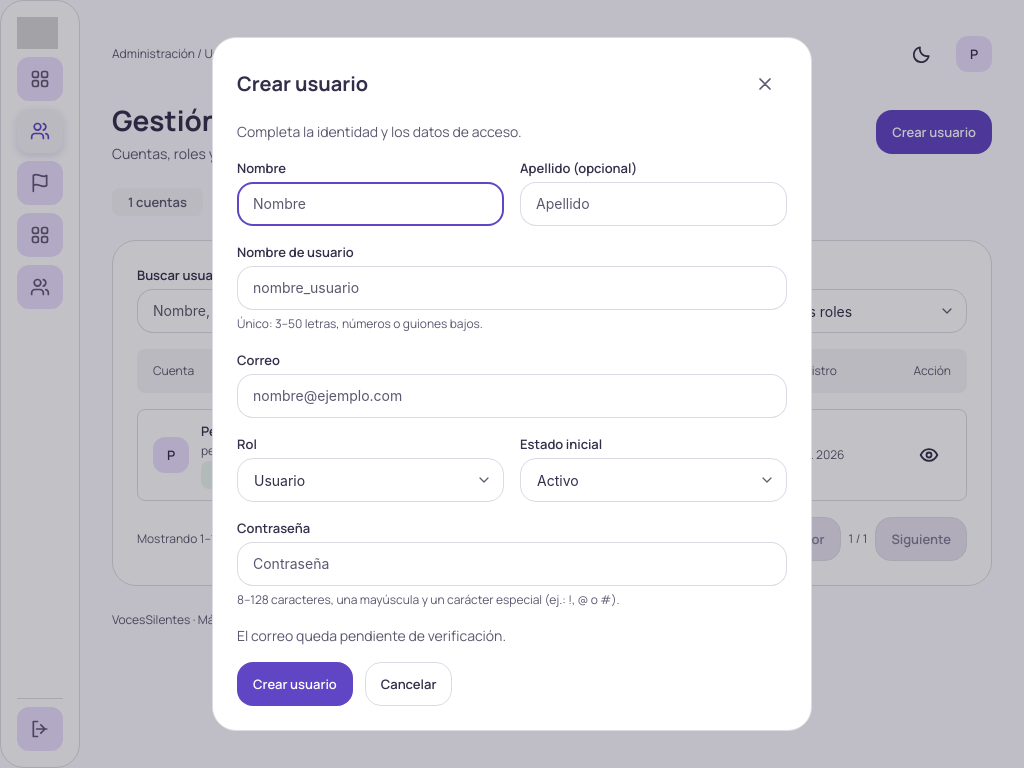
Test case: crear: rechaza abcd123! antes de enviar y explica el requisito
Expected: the heading "Crear usuario" is shown, top-left (237, 70), bottom-right (368, 97)
Expected: the text "8–128 caracteres, una mayúscula y un carácter especial" is shown, top-left (237, 591), bottom-right (620, 608)
In the field labelled "Nombre": (370, 204) top-left (253, 194), bottom-right (488, 214), type "Persona"
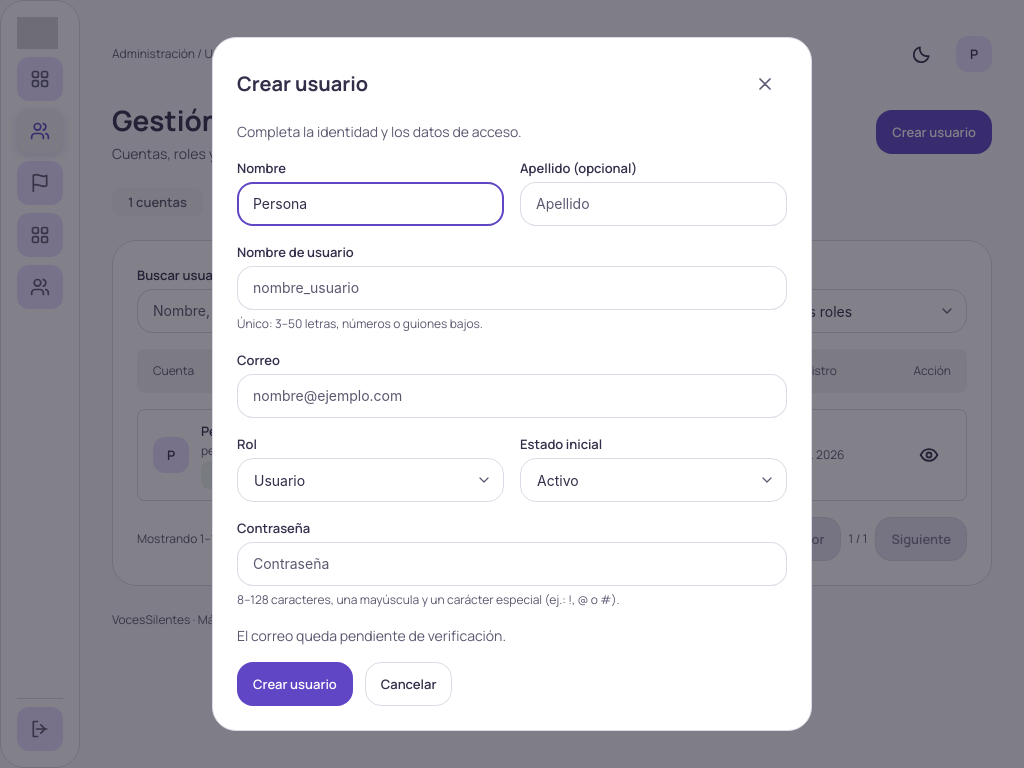
In the field labelled "Nombre de usuario": (512, 288) top-left (253, 278), bottom-right (771, 298), type "persona_admin"
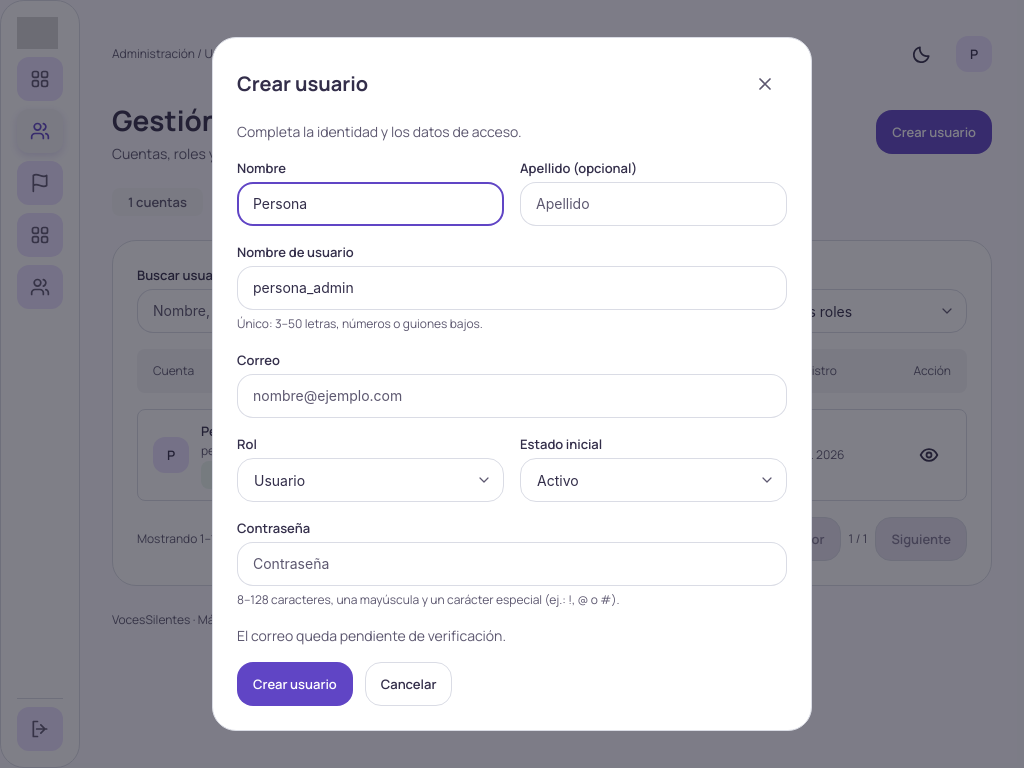
In the field labelled "Correo": (512, 396) top-left (253, 386), bottom-right (771, 406), type "person@example.invalid"
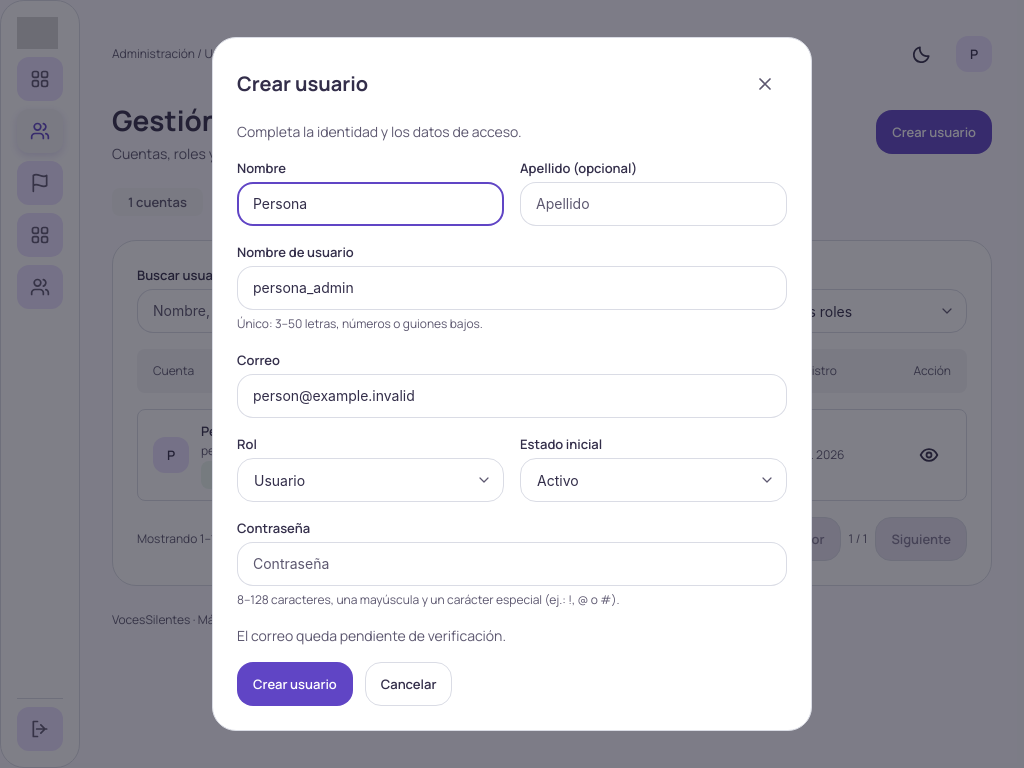
In the password field labelled "Contraseña": (512, 564) top-left (253, 554), bottom-right (771, 574), type "Una frase de prueba 123!"
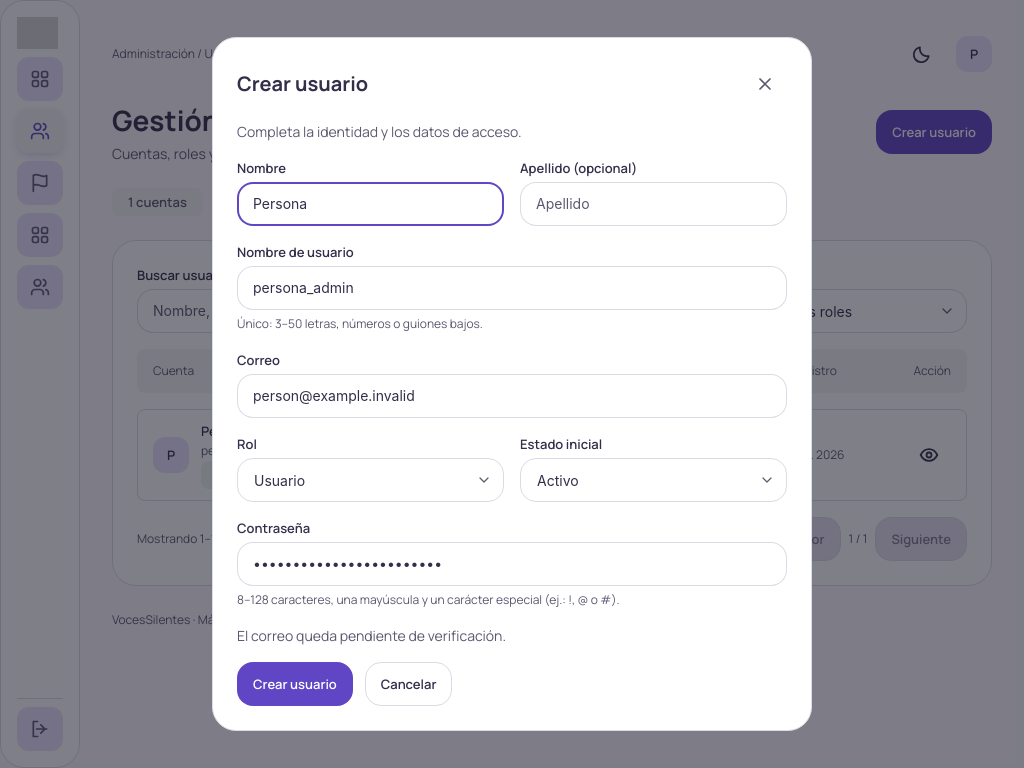
In the password field labelled "Contraseña": (512, 564) top-left (253, 554), bottom-right (771, 574), type "abcd123!"
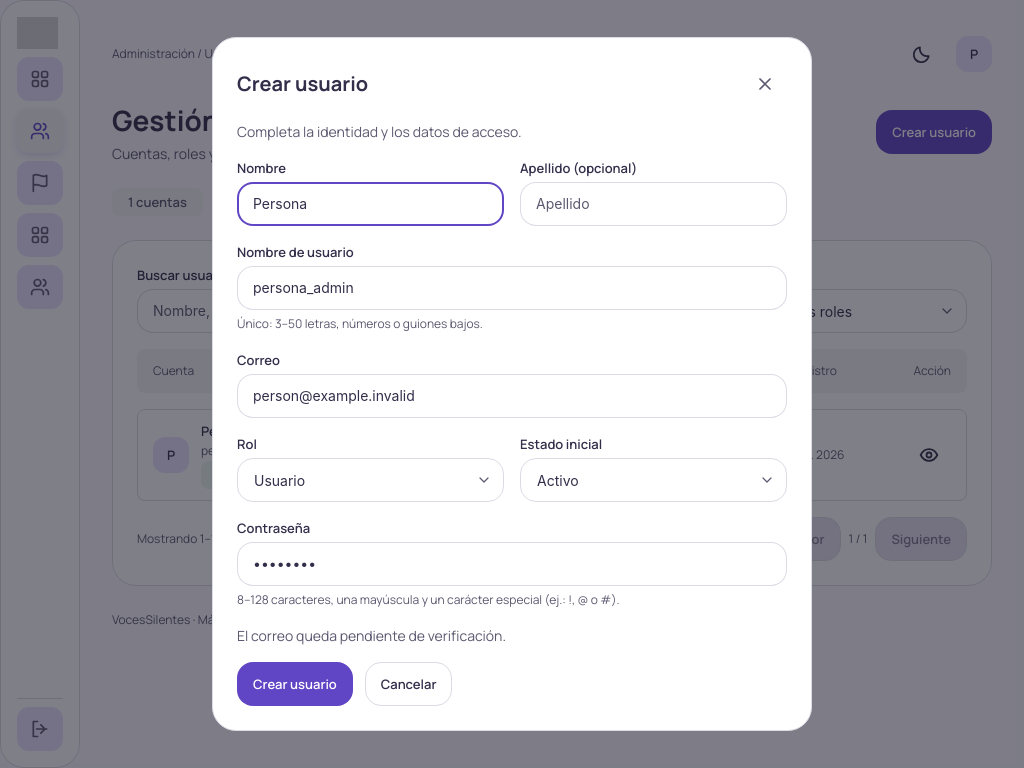
Click the button "Crear usuario": (295, 684) top-left (237, 662), bottom-right (353, 706)
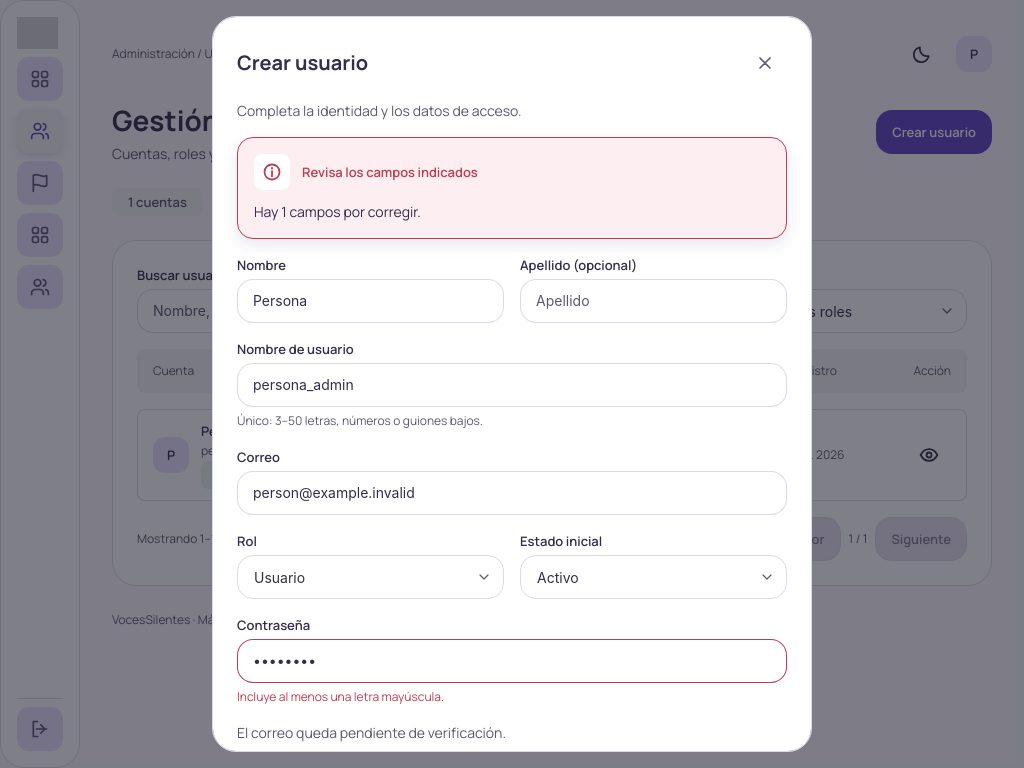
Now the text "Incluye al menos una letra mayúscula." is shown, box top-left (237, 688), bottom-right (444, 705)
